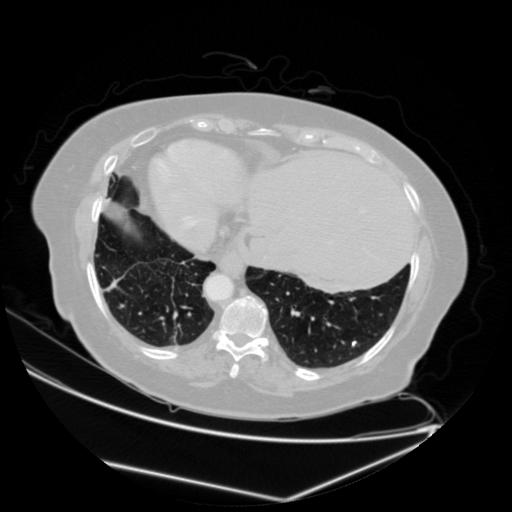nodule: (352, 338, 364, 350)
